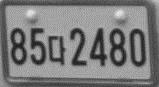0: (129, 27, 146, 67)
2: (69, 26, 87, 66)
4: (88, 26, 108, 66)
5: (29, 27, 46, 65)
8: (108, 26, 127, 67), (9, 27, 27, 65)
다: (47, 35, 66, 65)
